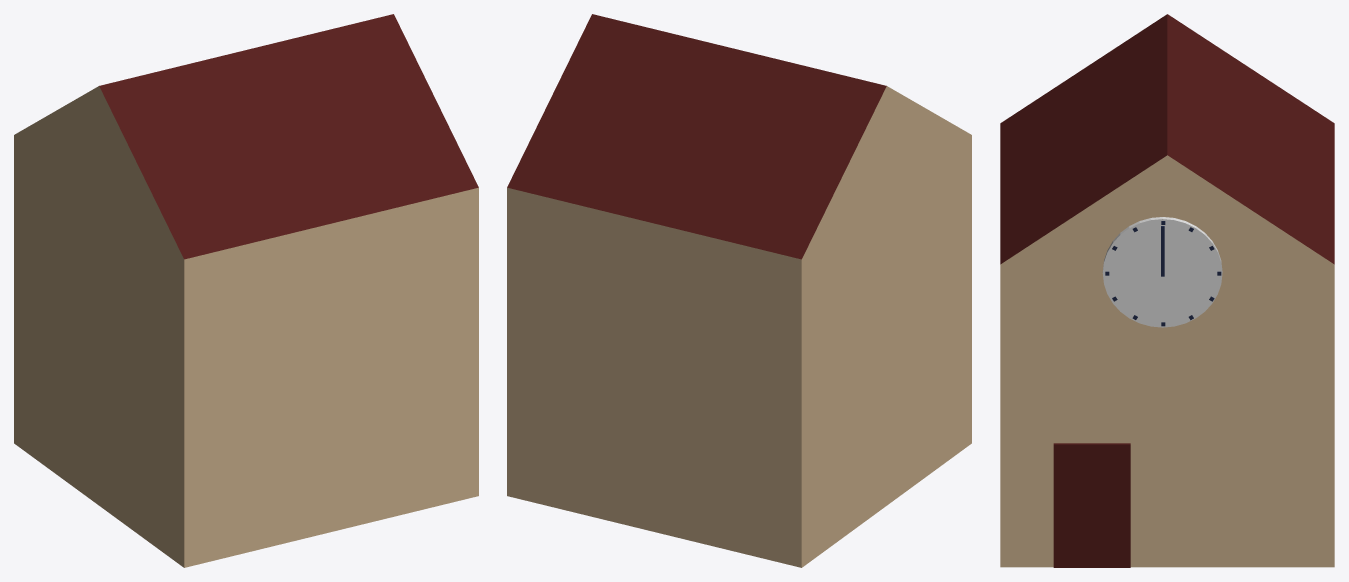
File: SimpleSchoolBuildingTwo.fbx
The picture shows the model from 3 angles, left to right: view 1: azimuth 30°, elevation 25°; view 2: azimuth 150°, elevation 25°; view 3: azimuth 270°, elevation 25°; orthographic projection.
Visible parts, largest first — view 1: Circle.001; view 2: Circle.001; view 3: Circle.001.
Part boxes in pixels (x1,y1,x2,y2): Circle.001: [14, 14, 478, 567]; Circle.001: [507, 14, 971, 567]; Circle.001: [1000, 14, 1334, 567].
Bounding box in the file's own units: 204 × 272 × 200.
